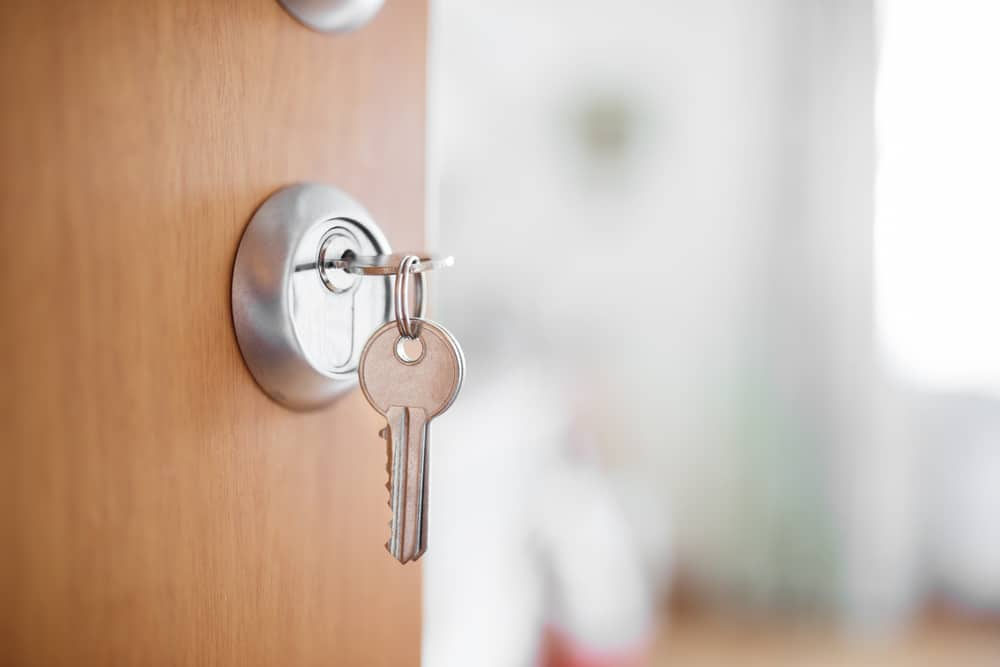key: (358, 316, 465, 565), (347, 249, 456, 276)
